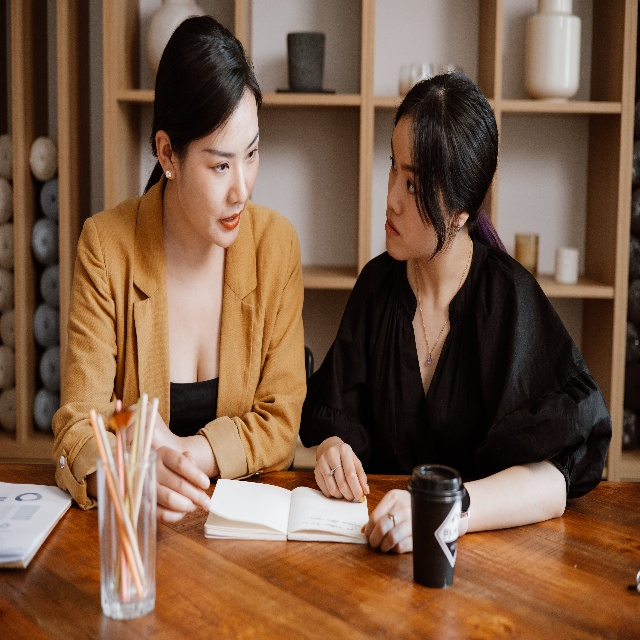Sin_guantes: (153, 444, 214, 526), (313, 439, 371, 505), (360, 485, 414, 553), (122, 398, 166, 451)
